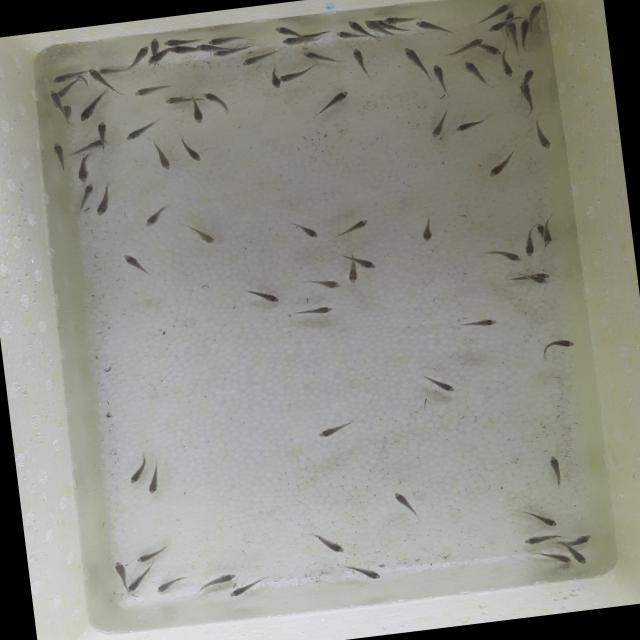fingerling: (481, 142, 520, 182), (336, 556, 386, 587), (387, 486, 427, 524), (530, 334, 580, 364), (514, 501, 560, 533), (306, 526, 348, 560), (540, 452, 572, 494), (416, 369, 458, 400), (312, 87, 352, 119), (313, 416, 361, 442), (120, 114, 160, 144), (478, 241, 524, 267), (174, 132, 207, 168), (236, 46, 285, 70), (193, 567, 240, 592), (138, 200, 172, 233), (286, 214, 322, 245), (243, 283, 285, 309), (328, 216, 373, 240), (344, 44, 374, 80), (451, 112, 492, 138), (288, 300, 334, 323), (461, 56, 492, 90), (131, 540, 173, 565), (302, 270, 345, 294), (452, 314, 503, 334), (120, 248, 150, 282), (184, 222, 220, 250), (425, 105, 453, 141), (528, 117, 554, 154), (200, 86, 232, 116), (47, 138, 72, 176), (278, 64, 322, 85), (401, 44, 429, 77), (428, 58, 452, 96), (69, 155, 98, 186), (226, 579, 266, 601), (299, 46, 340, 67), (414, 212, 440, 245), (76, 95, 105, 124), (126, 451, 150, 486), (150, 574, 188, 596), (518, 223, 540, 261), (151, 140, 174, 176), (131, 80, 172, 100), (413, 16, 452, 37), (92, 192, 120, 220), (144, 467, 168, 498), (207, 32, 251, 48), (78, 182, 98, 211), (518, 532, 554, 548), (70, 138, 102, 156), (160, 91, 193, 108), (161, 35, 201, 49), (452, 36, 484, 53), (189, 100, 208, 128), (526, 2, 546, 28), (540, 214, 556, 246), (505, 18, 520, 52), (518, 18, 534, 49), (100, 61, 128, 78), (112, 558, 130, 584), (125, 574, 147, 595), (212, 46, 250, 58), (570, 532, 598, 548), (500, 54, 516, 82), (548, 550, 572, 568), (572, 548, 592, 568), (356, 255, 379, 272), (94, 118, 110, 140), (168, 44, 196, 56), (344, 267, 361, 286), (268, 66, 281, 90), (273, 24, 298, 36), (147, 53, 168, 67), (485, 42, 503, 58), (62, 103, 75, 125), (491, 0, 512, 13), (344, 18, 362, 32), (332, 28, 353, 40), (485, 20, 503, 34), (135, 43, 151, 58), (280, 35, 300, 47), (382, 14, 402, 26), (522, 66, 535, 84), (146, 36, 161, 51), (48, 88, 62, 104), (362, 17, 378, 31), (48, 73, 68, 84), (532, 276, 550, 288), (85, 66, 100, 80), (194, 43, 210, 54), (536, 222, 545, 234), (504, 10, 515, 18)
